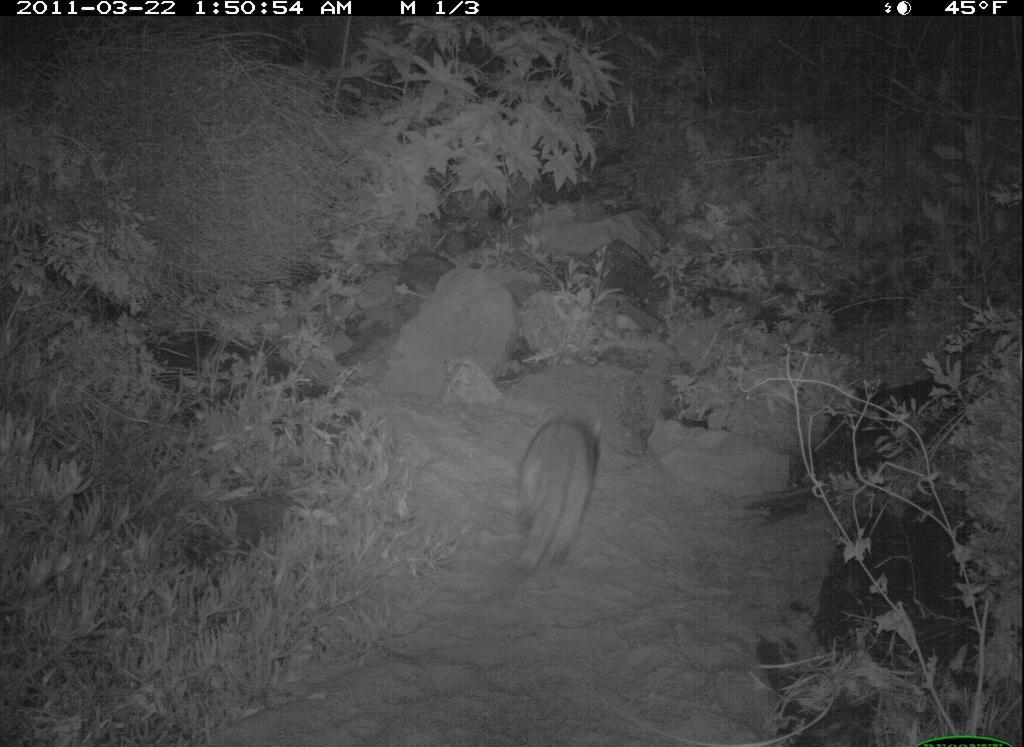raccoon: (498, 400, 635, 601)
